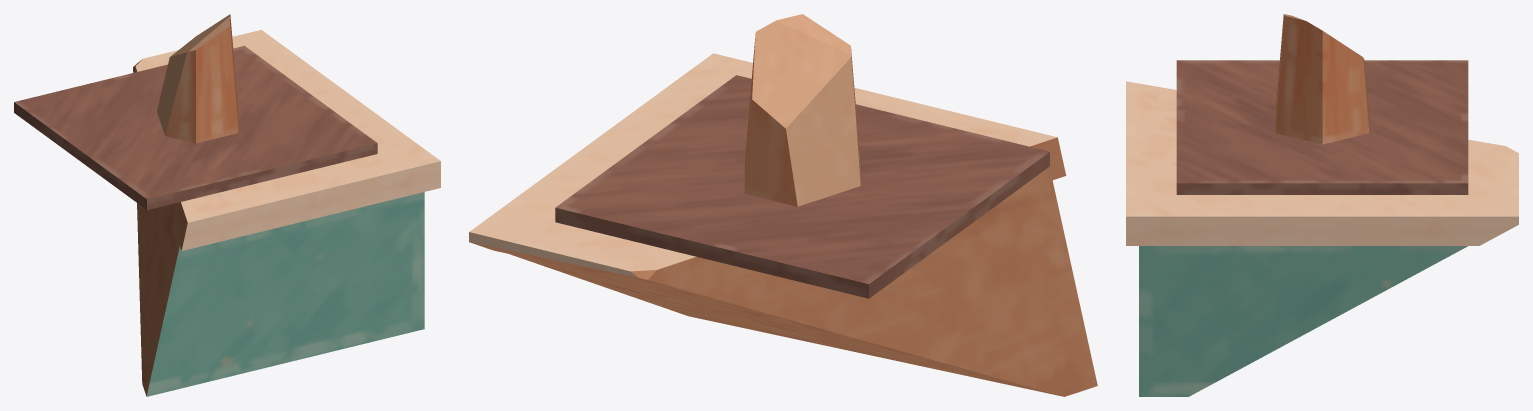
File: tree_s02.fbx
3 renders of one model, left to right at view 1: azimuth 30°, elevation 25°; view 2: azimuth 150°, elevation 25°; view 3: azimuth 270°, elevation 25°, orthographic. The views are drawn at different scales.
Visible parts, largest first — view 1: tree_s02; view 2: tree_s02; view 3: tree_s02.
Boxes of the visible parts, x1,y1,x2,y2 form: tree_s02: [14, 14, 440, 396]; tree_s02: [469, 14, 1097, 396]; tree_s02: [1126, 14, 1518, 396].
Bounding box in the file's own units: 3.38 × 3.2 × 3.64.
